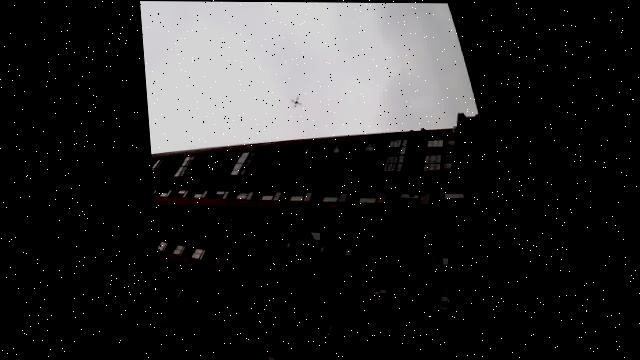drone: (287, 95, 300, 108)
